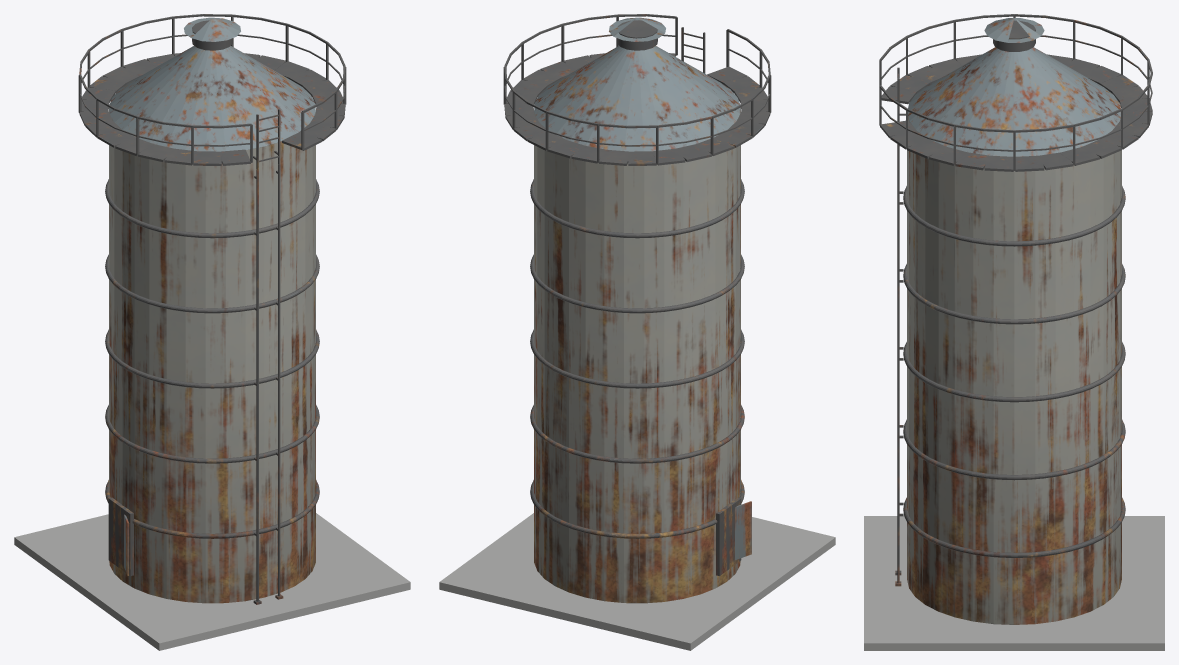
The model's file is Silo2.glb.
3 views of the same model, side by side, from view 1: azimuth 30°, elevation 25°; view 2: azimuth 150°, elevation 25°; view 3: azimuth 270°, elevation 25° (orthographic). The views are drawn at different scales.
Visible parts, largest first — view 1: Silo_Tall_Rusted, Silo_Tall_Rusted.001; view 2: Silo_Tall_Rusted, Silo_Tall_Rusted.001; view 3: Silo_Tall_Rusted, Silo_Tall_Rusted.001.
Boxes of the visible parts, <box> form: Silo_Tall_Rusted: <box>78,14,346,604</box>; Silo_Tall_Rusted.001: <box>14,513,410,650</box>; Silo_Tall_Rusted: <box>503,14,771,603</box>; Silo_Tall_Rusted.001: <box>439,513,835,650</box>; Silo_Tall_Rusted: <box>879,14,1152,624</box>; Silo_Tall_Rusted.001: <box>864,516,1164,650</box>.
Size of the model in its own units: 7 by 14.6 by 7.
2 materials, 1 textured.
